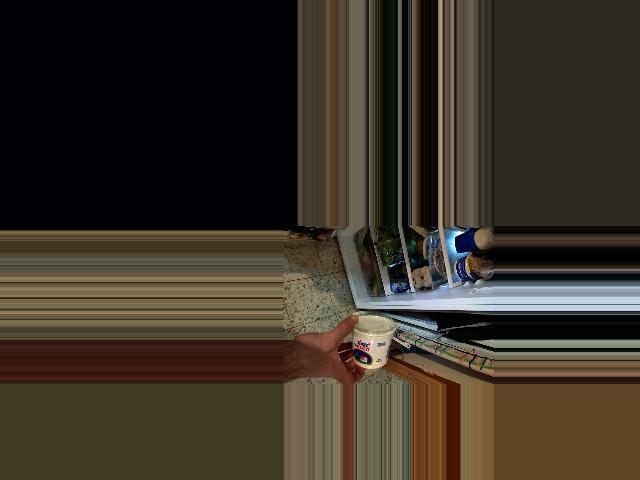cotage: (346, 314, 397, 369)
